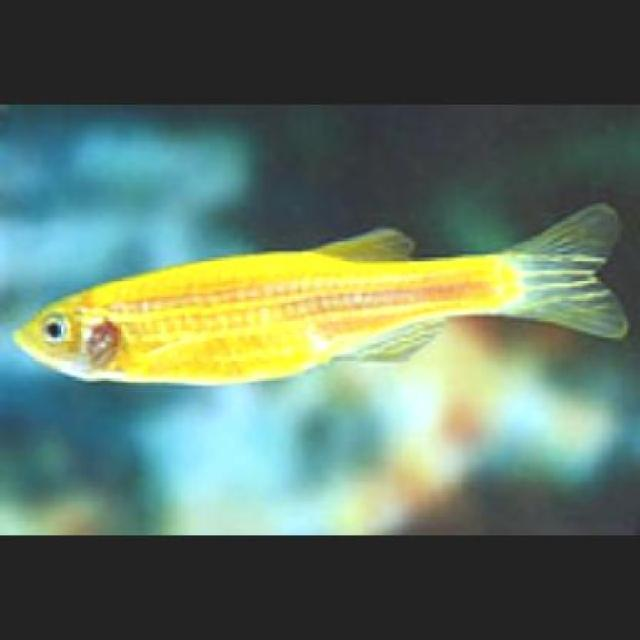ZebraFish: (18, 199, 632, 383)
